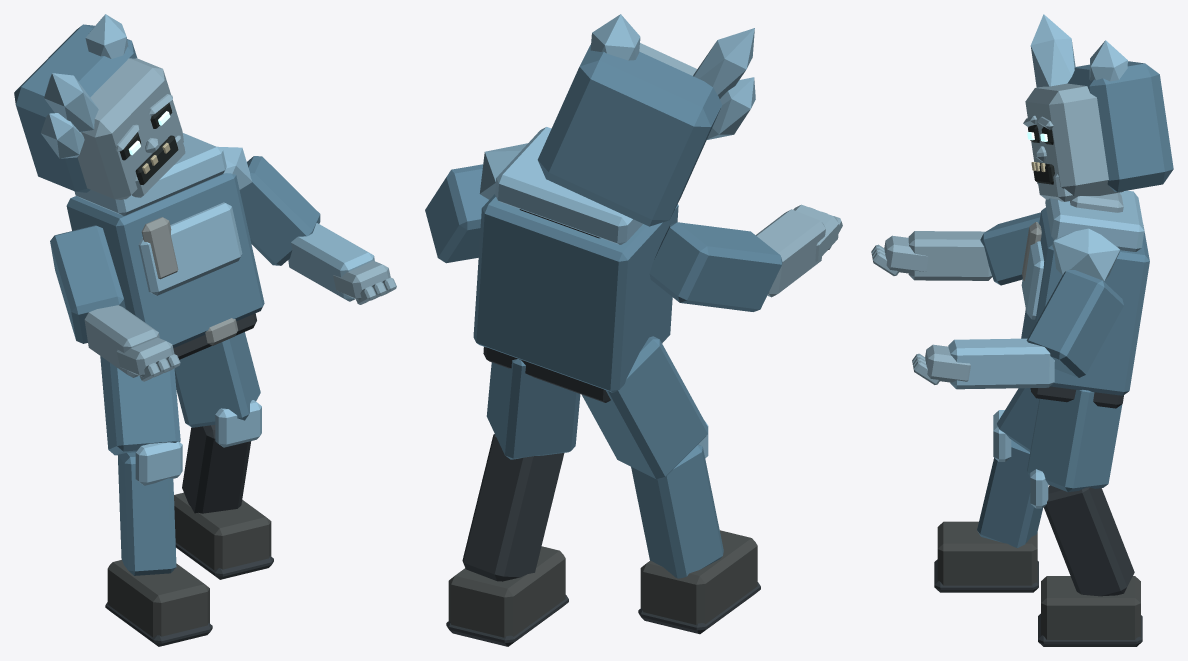
The model's file is zumbi-4.glb.
3 views of the same model, side by side, from view 1: azimuth 30°, elevation 25°; view 2: azimuth 150°, elevation 25°; view 3: azimuth 270°, elevation 25° (orthographic). The views are drawn at different scales.
Parts seen in each view (by area): view 1: Jaqueta rasgada.004; view 2: Jaqueta rasgada.004; view 3: Jaqueta rasgada.004.
Boxes of the visible parts, left/top/right/bottom form: Jaqueta rasgada.004: left=14, top=14, right=396, bottom=646; Jaqueta rasgada.004: left=425, top=14, right=842, bottom=646; Jaqueta rasgada.004: left=871, top=14, right=1173, bottom=646.
Size of the model in its own units: 1.21 by 2.27 by 1.14.
